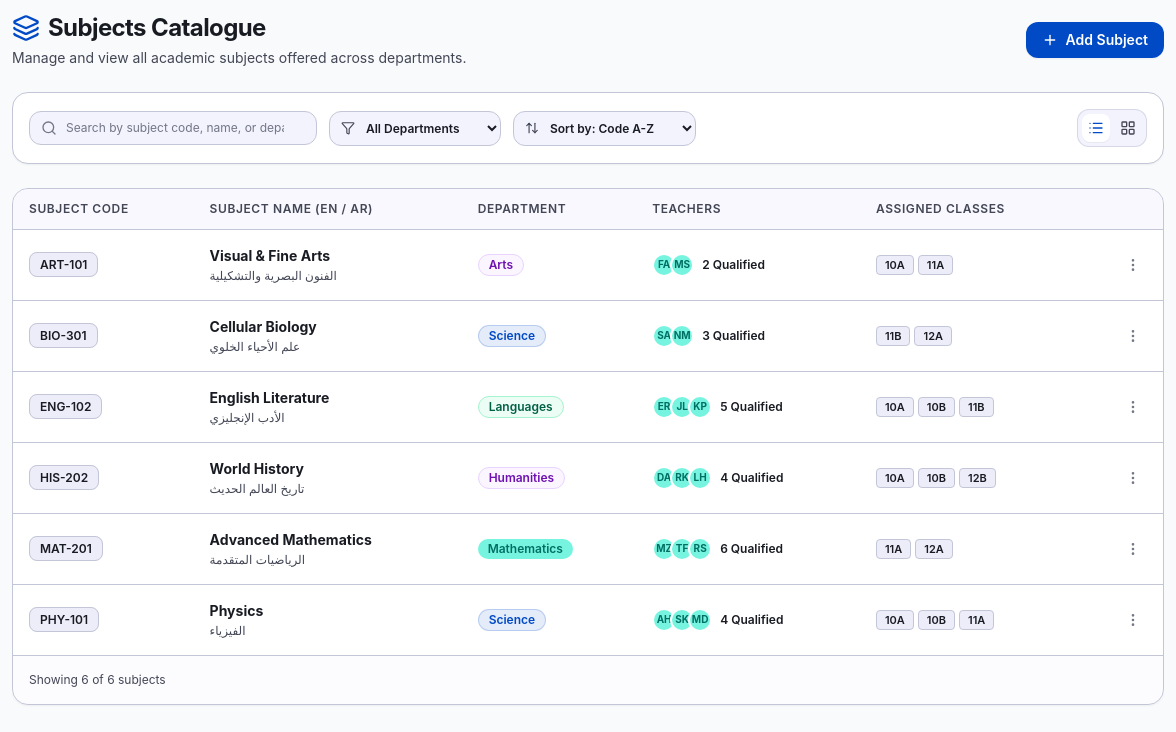
it: SubjectsCataloguePage (Subjects Catalogue Stitch Clone) › filters subjects by department selection
This screenshot has width=1176, height=732.
Select "Science" in the 1st dropdown: (415, 128) x1=329 y1=110 x2=501 y2=146
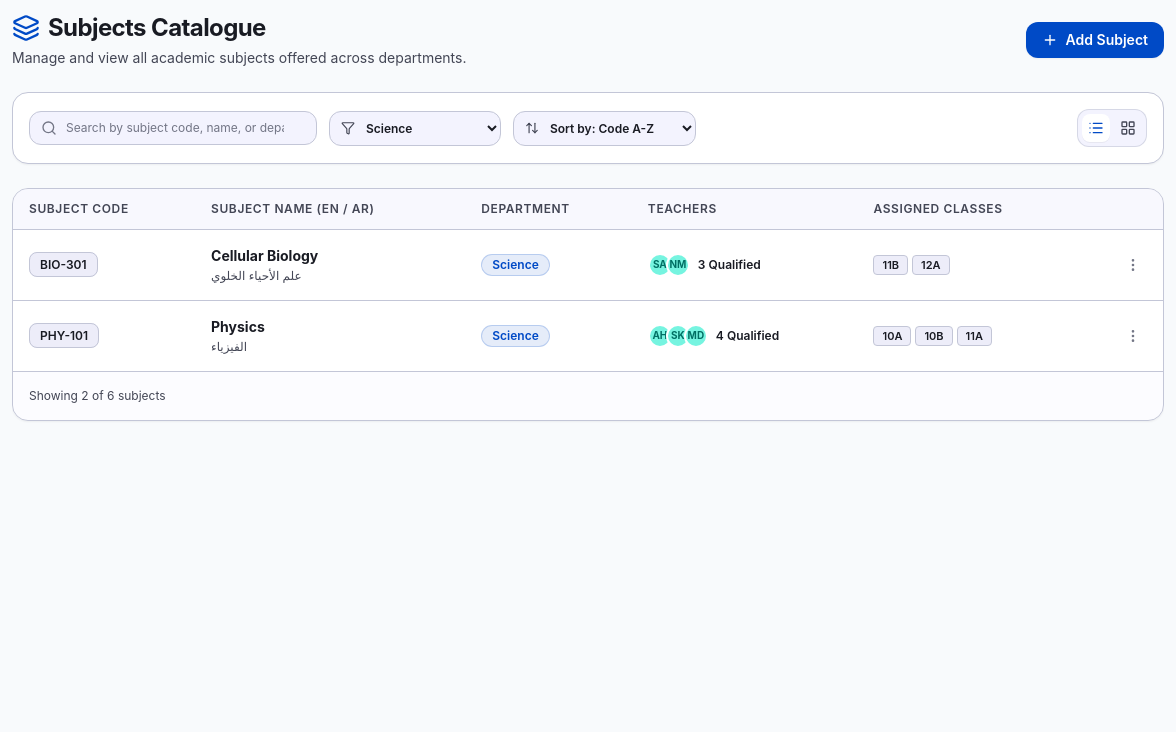
Expected: the text "PHY-101" is shown, x1=29 y1=323 x2=99 y2=348
Now the text "MAT-201" is gone
